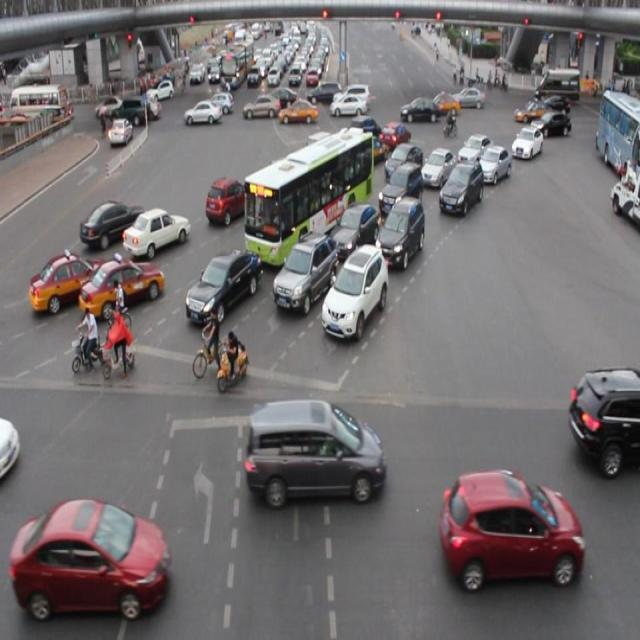BigCar: (248, 135, 372, 237)
car: (435, 461, 584, 612), (6, 496, 170, 626), (235, 403, 405, 527), (70, 255, 164, 332), (194, 236, 262, 323), (334, 242, 390, 341), (375, 194, 430, 284), (443, 147, 488, 244), (278, 230, 320, 328), (38, 231, 82, 319), (128, 205, 186, 268), (81, 186, 132, 248), (394, 81, 445, 141), (184, 96, 233, 142), (238, 94, 287, 129), (282, 94, 323, 134), (516, 118, 545, 168), (335, 98, 368, 120)
